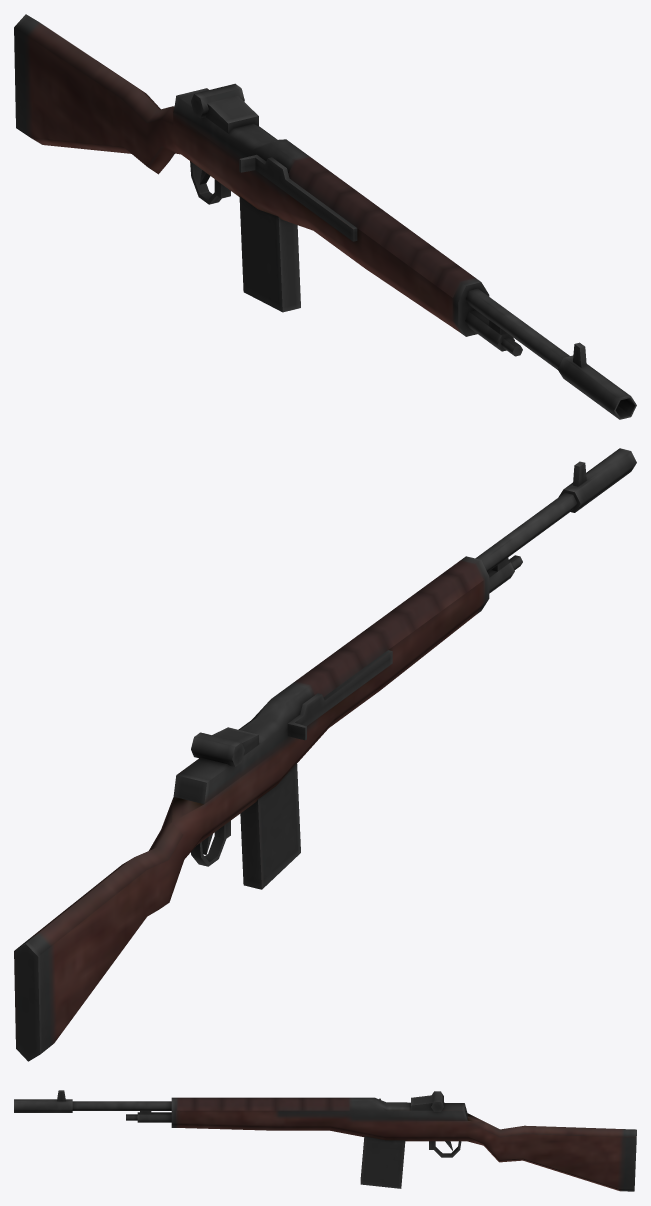
3 views of the same model, one above another, from view 1: azimuth 30°, elevation 25°; view 2: azimuth 150°, elevation 25°; view 3: azimuth 270°, elevation 25° (orthographic). The views are drawn at different scales.
Visible parts, largest first — view 1: M14; view 2: M14; view 3: M14.
Part boxes in pixels (x1,y1,x2,y2): M14: (14,14,636,419); M14: (14,448,636,1061); M14: (14,1090,636,1191).
Bounding box in the file's own units: 5.91 × 20.4 × 114.
